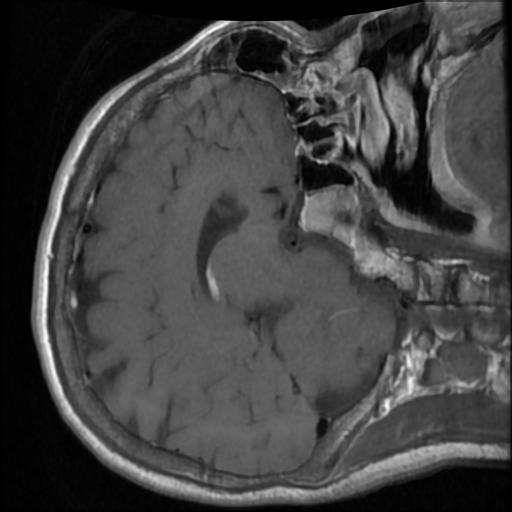pituitary tumour: (301, 185, 357, 232)
